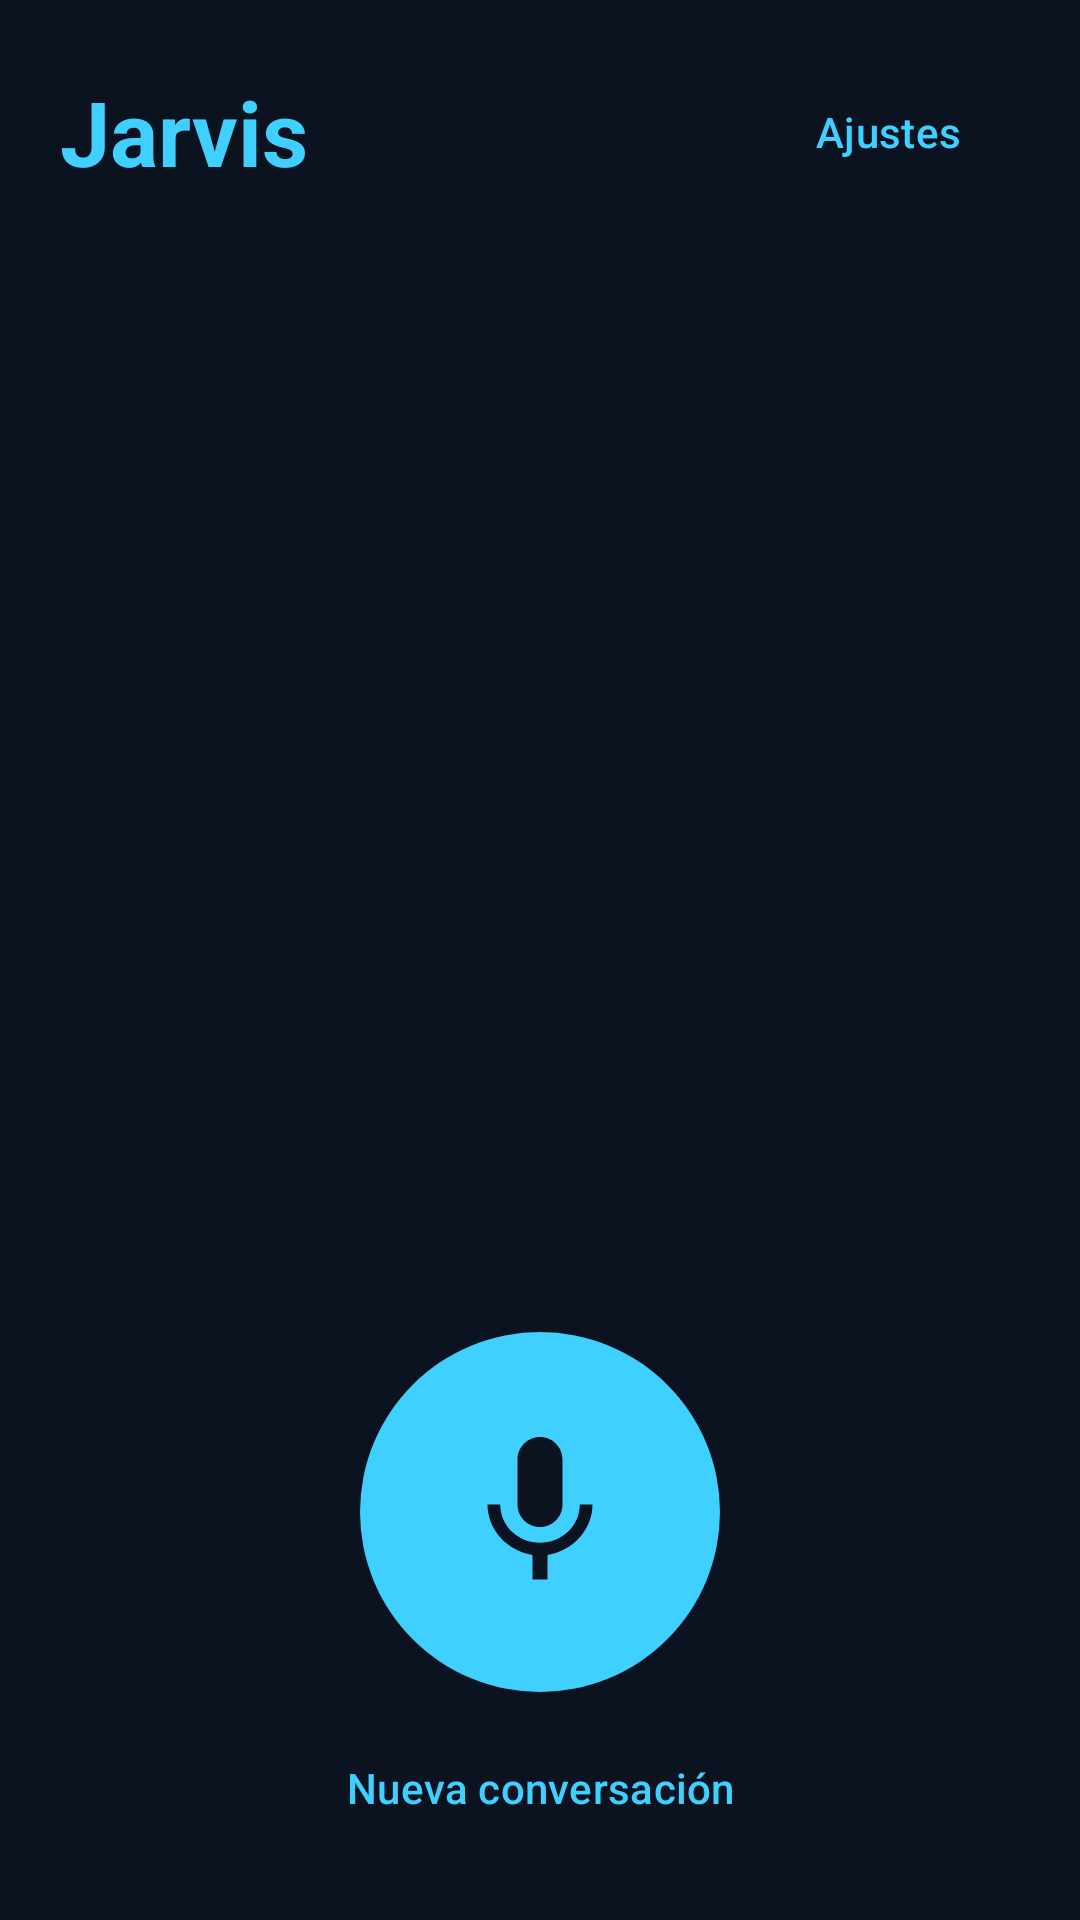

Locate icon controls on the screen. Image size 1080x1920, boxes as [x1,y1,x2,y2].
Hablar con Jarvis: [360,1332,720,1692]
